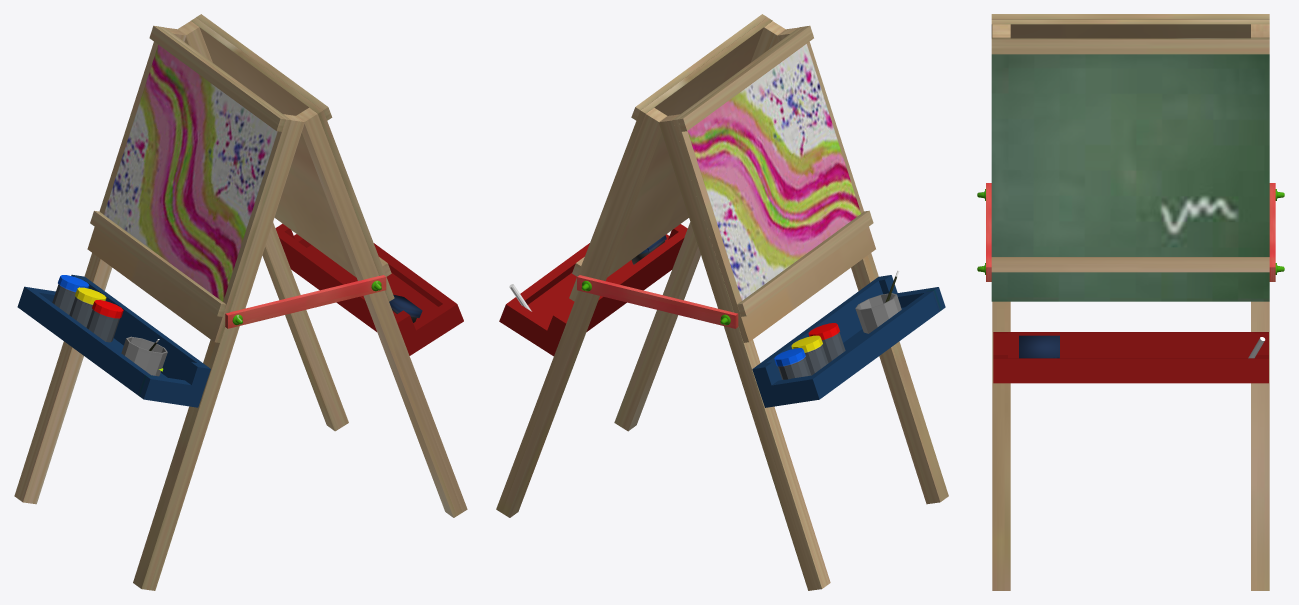
File: easel.fbx
The picture shows the model from 3 angles, left to right: view 1: azimuth 30°, elevation 25°; view 2: azimuth 150°, elevation 25°; view 3: azimuth 270°, elevation 25°; orthographic projection. The views are drawn at different scales.
Visible parts, largest first — view 1: Easel1; view 2: Easel1; view 3: Easel1.
Part boxes in pixels (left/top/right/bottom): Easel1: left=14, top=14, right=467, bottom=590; Easel1: left=496, top=14, right=948, bottom=590; Easel1: left=977, top=14, right=1284, bottom=590.
Size of the model in its own units: 7.09 by 9.17 by 5.29.
